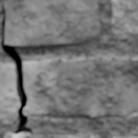brick: (4, 0, 100, 46), (111, 0, 137, 40), (4, 133, 98, 137)
broken_brick: (23, 58, 137, 119), (0, 63, 18, 118)
crack: (0, 2, 33, 135)
